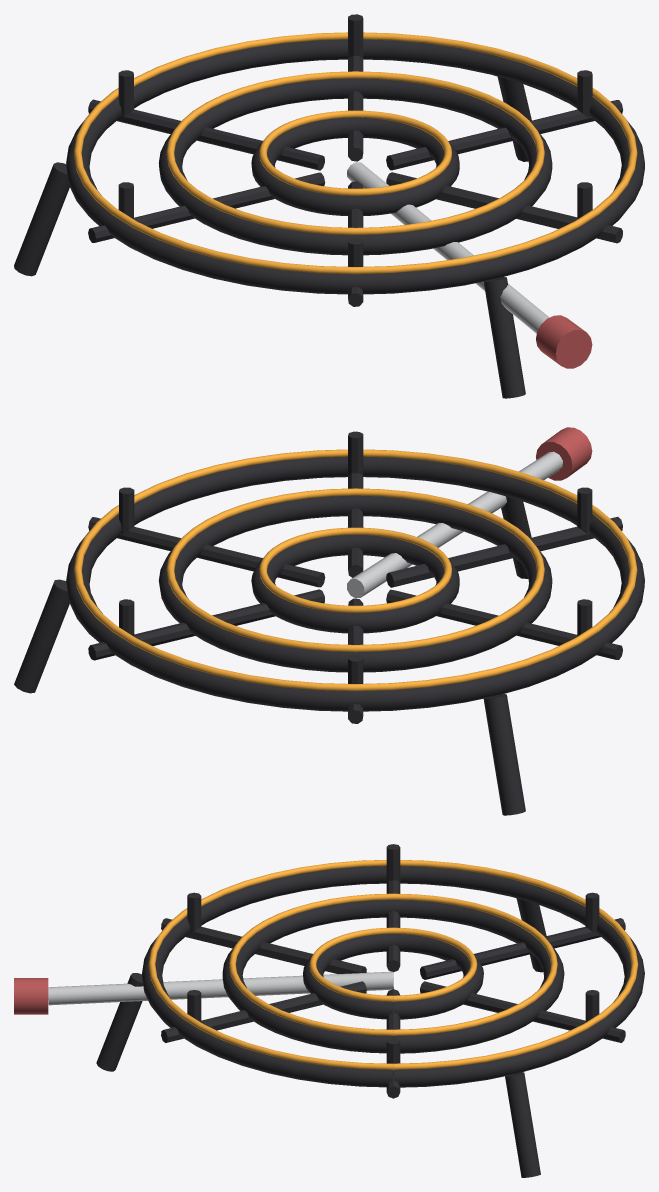
Rendered from paellero.glb.
3 renders of one model, top to bottom at view 1: azimuth 30°, elevation 25°; view 2: azimuth 150°, elevation 25°; view 3: azimuth 270°, elevation 25°, orthographic. The views are drawn at different scales.
Parts seen in each view (by area): view 1: apoyo_0, llama_0, toma, llave; view 2: apoyo_0, llama_0, toma, llave; view 3: apoyo_0, llama_0, toma, llave.
Part boxes in pixels (bbox=[...]): apoyo_0: bbox=[14, 14, 644, 398]; llama_0: bbox=[74, 32, 637, 274]; toma: bbox=[347, 162, 549, 333]; llave: bbox=[536, 315, 592, 368]; apoyo_0: bbox=[14, 431, 644, 815]; llama_0: bbox=[74, 449, 637, 691]; toma: bbox=[347, 451, 562, 598]; llave: bbox=[536, 427, 592, 480]; apoyo_0: bbox=[96, 844, 644, 1177]; llama_0: bbox=[148, 860, 638, 1069]; toma: bbox=[48, 971, 393, 1005]; llave: bbox=[14, 978, 48, 1014].
Bounding box in the file's own units: 0.46 × 0.123 × 0.5488.
